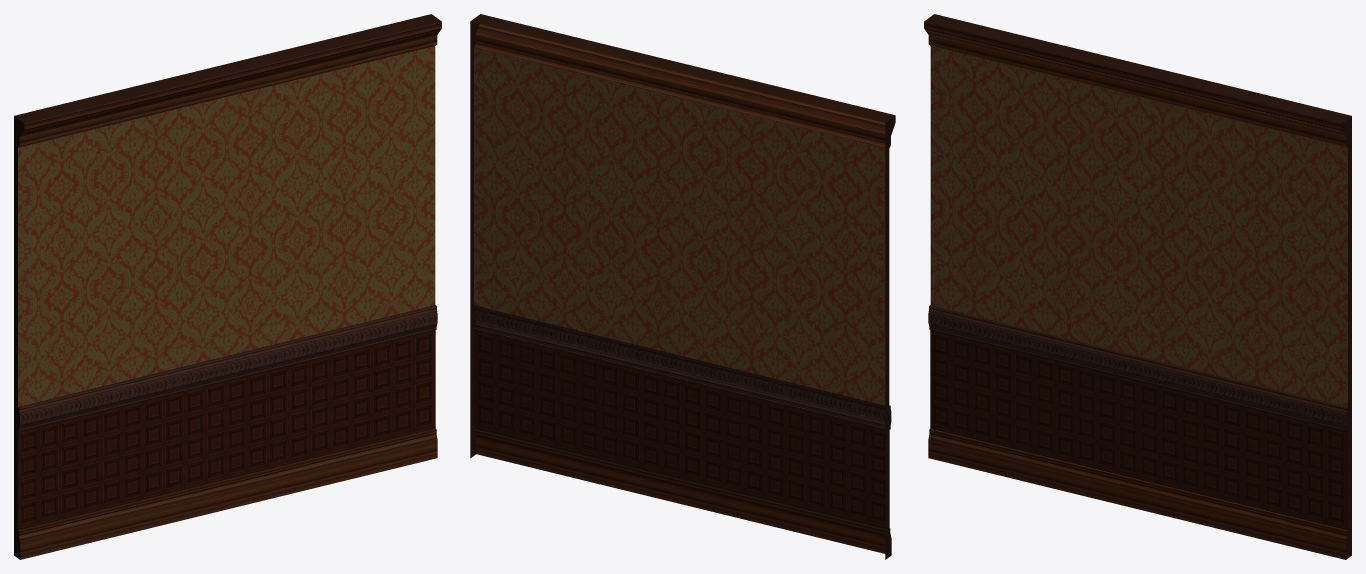
The model's file is Wall1Medium.fbx.
The picture shows the model from 3 angles, left to right: view 1: azimuth 30°, elevation 25°; view 2: azimuth 150°, elevation 25°; view 3: azimuth 330°, elevation 25°; orthographic projection.
Parts seen in each view (by area): view 1: WallSection1Med; view 2: WallSection1Med; view 3: WallSection1Med.
Part boxes in pixels (<box>): WallSection1Med: <box>14,14,441,559</box>; WallSection1Med: <box>470,14,895,559</box>; WallSection1Med: <box>924,14,1351,559</box>.
Size of the model in its own units: 369 by 371 by 15.9.
